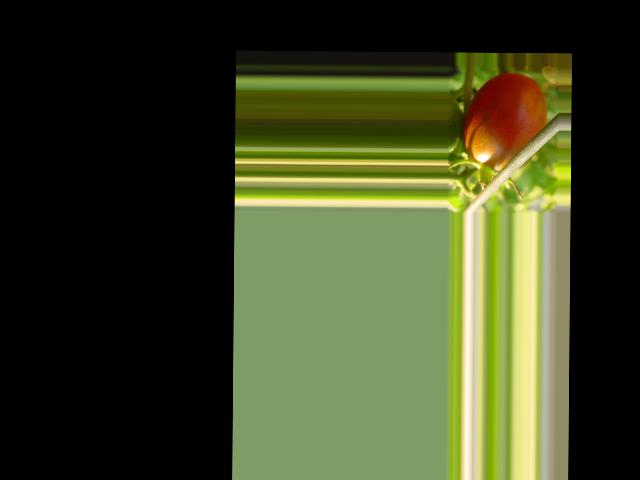tomato: (464, 73, 546, 171)
